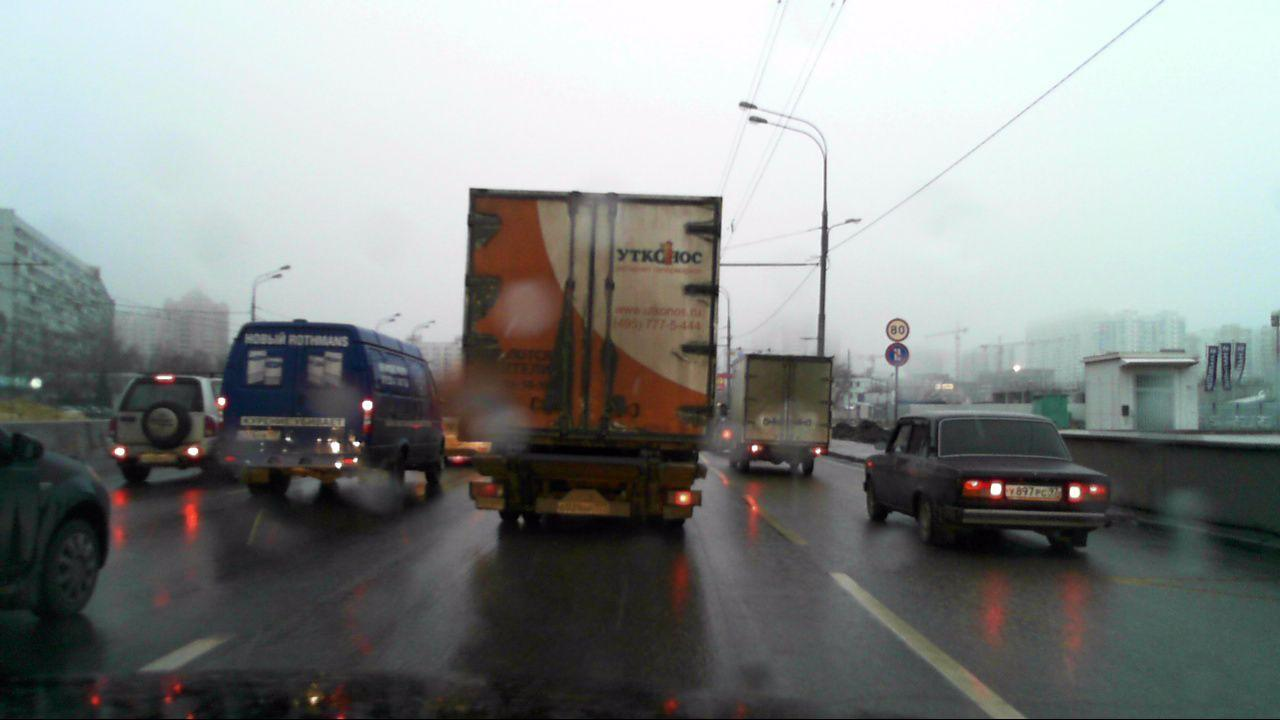3_24: (885, 317, 912, 341)
3_30: (885, 342, 908, 366)
